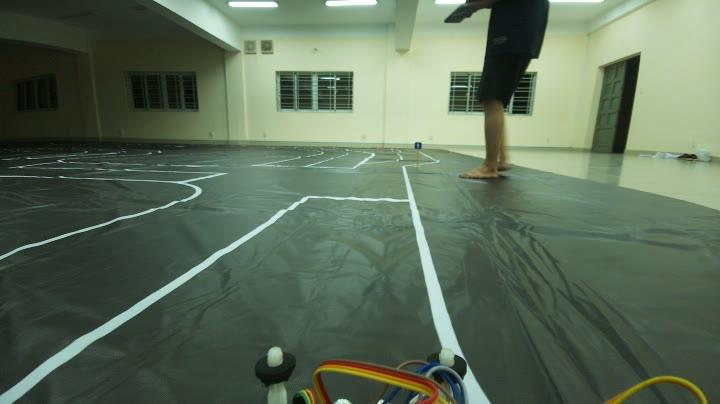onewayroad: (415, 140, 422, 152)
